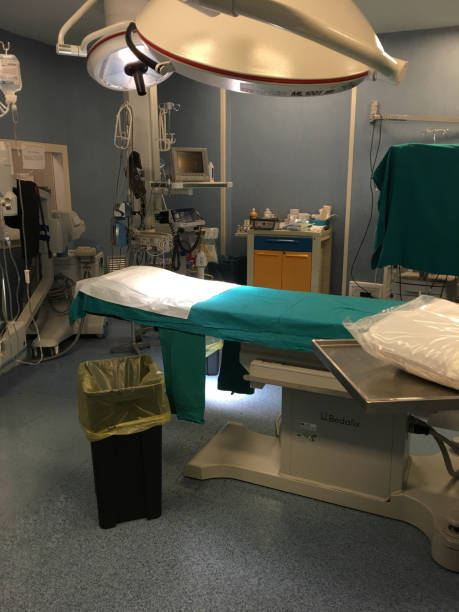bedside_monitor: (169, 147, 211, 182)
handle: (266, 239, 295, 244), (284, 255, 309, 260), (257, 254, 279, 259)
medical_drawer: (234, 207, 331, 295)
operating_bed: (70, 265, 459, 572)
surgical_light: (135, 1, 408, 98), (86, 34, 175, 96)
waste_bin: (76, 354, 171, 530)
